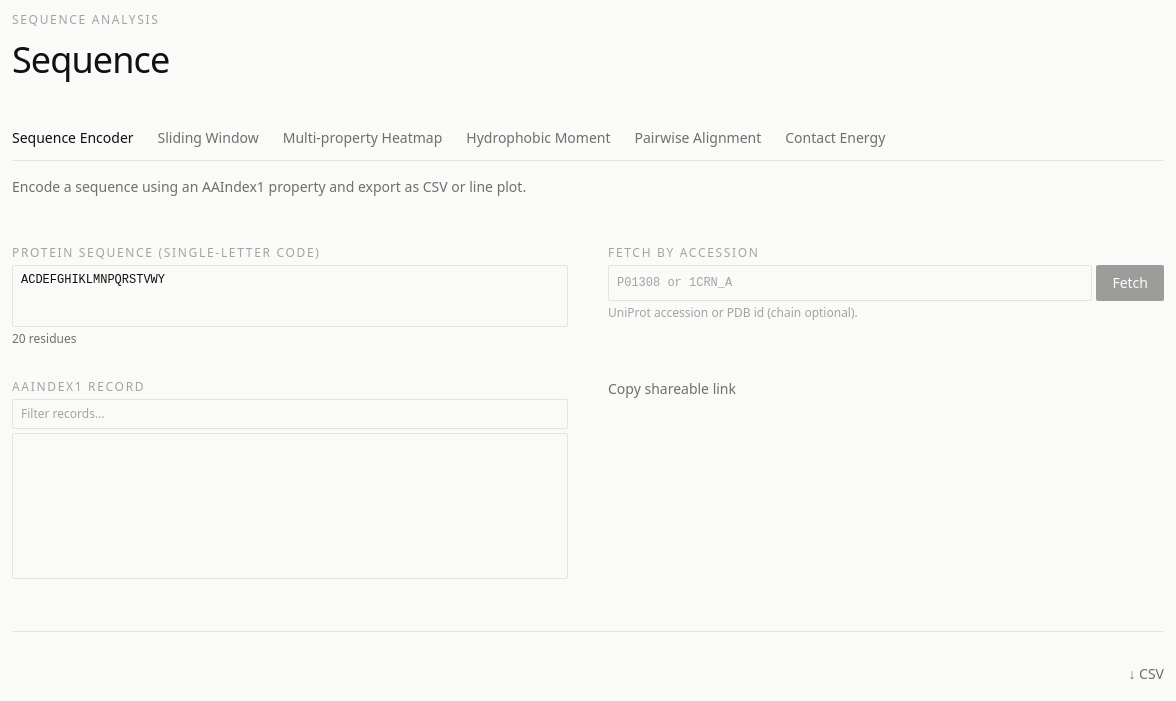
Scenario: SequenceAnalysis — tab switching › Sliding Window tab shows current window size in label
Click the button "Sliding Window" at (208,144), box [158,128,259,161]
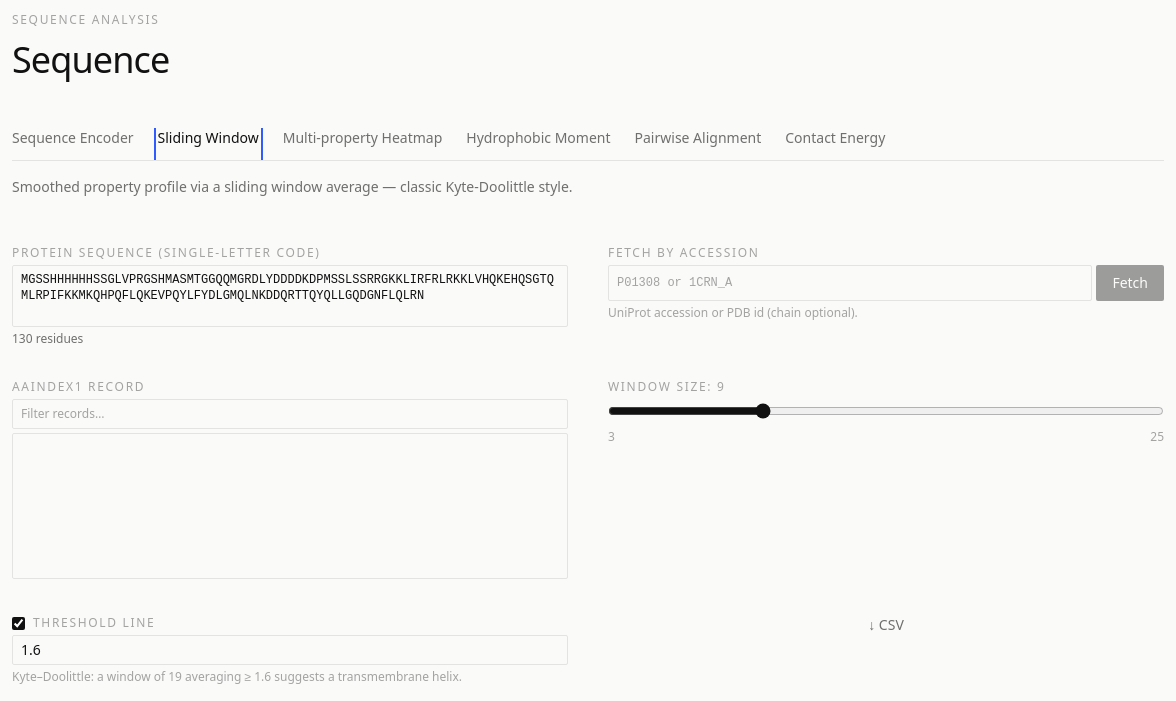
Result: the text "Window size: 9" is shown at [608,378,726,395]
